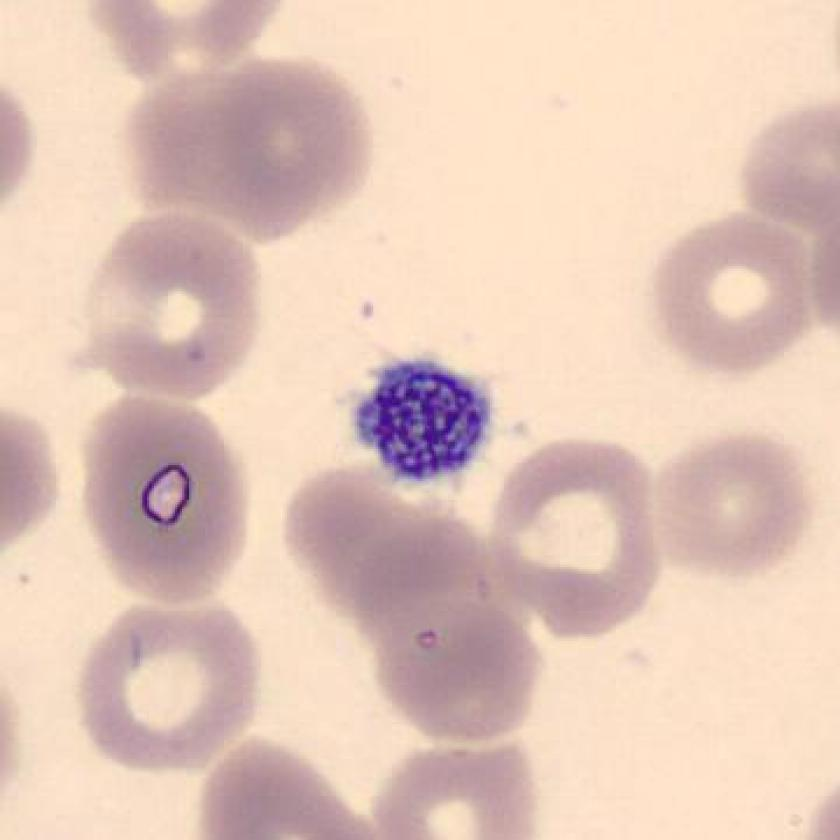platelets: (339, 344, 510, 503)
